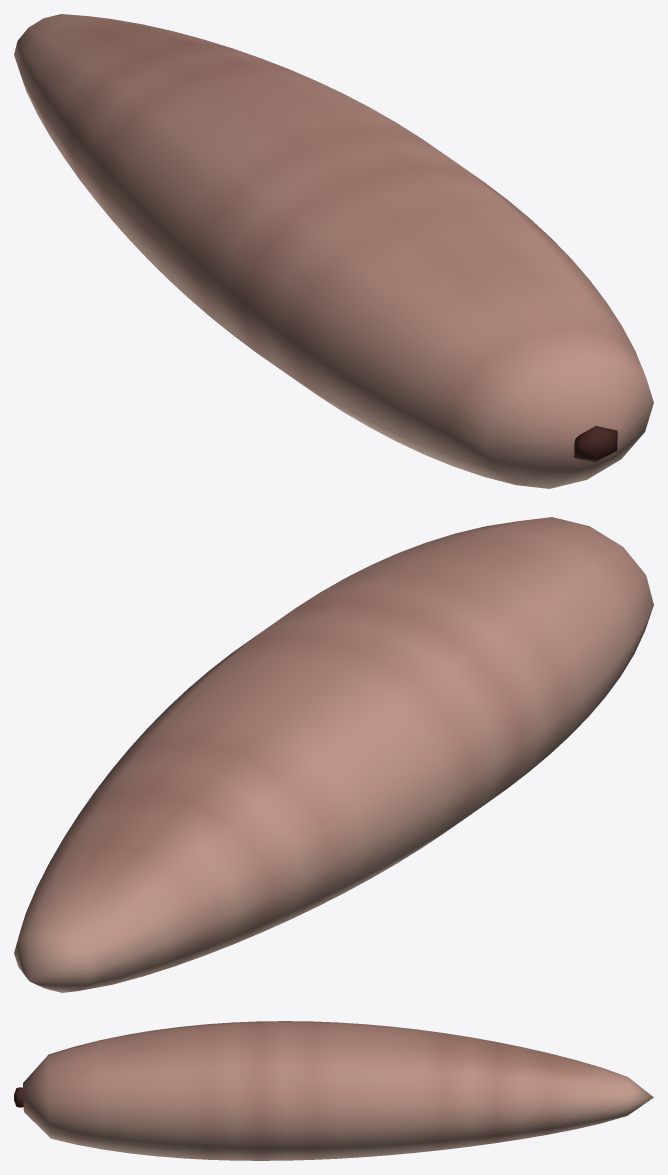
File: Ikaria.fbx
3 renders of one model, top to bottom at view 1: azimuth 30°, elevation 25°; view 2: azimuth 150°, elevation 25°; view 3: azimuth 270°, elevation 25°, orthographic. The views are drawn at different scales.
Parts seen in each view (by area): view 1: Ikaria; view 2: Ikaria; view 3: Ikaria.
Boxes of the visible parts, x1,y1,x2,y2 form: Ikaria: (14, 14, 653, 488); Ikaria: (14, 517, 653, 992); Ikaria: (14, 1021, 653, 1160).
Size of the model in its own units: 0.2862 by 0.2014 by 1.02.
